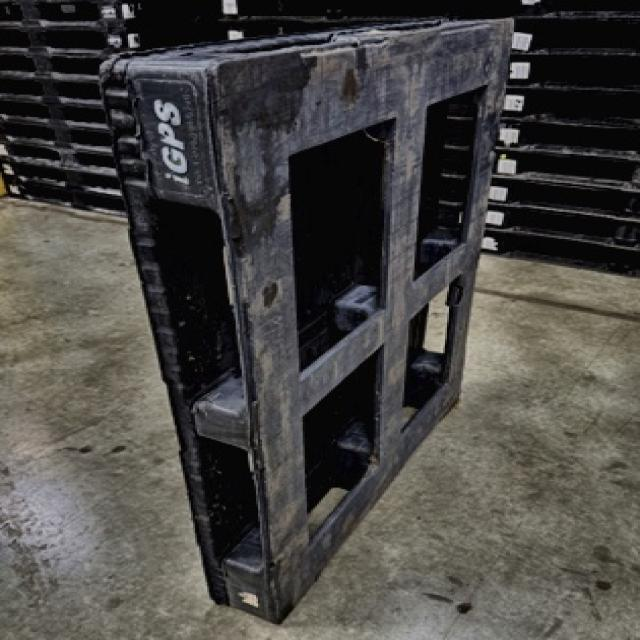igps: (96, 13, 518, 624), (473, 0, 638, 289), (0, 0, 145, 224)
